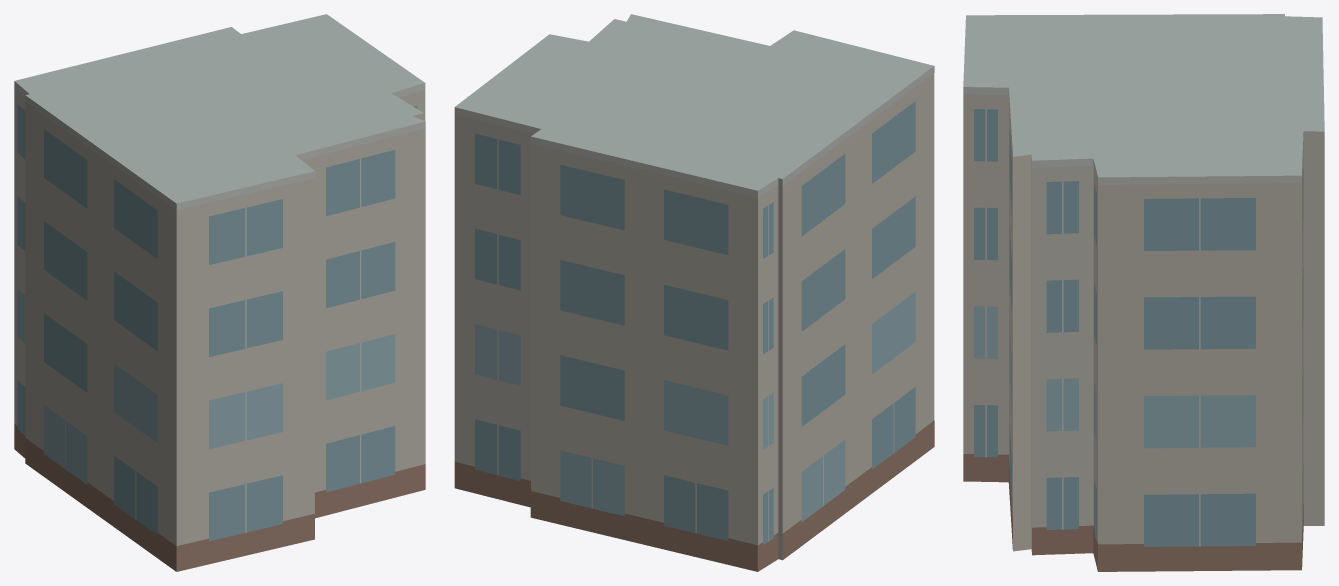
File: survey-upis-32633614.glb
3 renders of one model, left to right at view 1: azimuth 30°, elevation 25°; view 2: azimuth 150°, elevation 25°; view 3: azimuth 270°, elevation 25°, orthographic. The views are drawn at different scales.
Parts seen in each view (by area): view 1: survey-upis-32633614.tmp; view 2: survey-upis-32633614.tmp; view 3: survey-upis-32633614.tmp.
Part boxes in pixels (box(x1,y1,x2,y2)): survey-upis-32633614.tmp: box(14, 14, 425, 571); survey-upis-32633614.tmp: box(454, 14, 934, 571); survey-upis-32633614.tmp: box(963, 14, 1324, 571).
Bounding box in the file's own units: 11.73 × 13.2 × 10.97.
